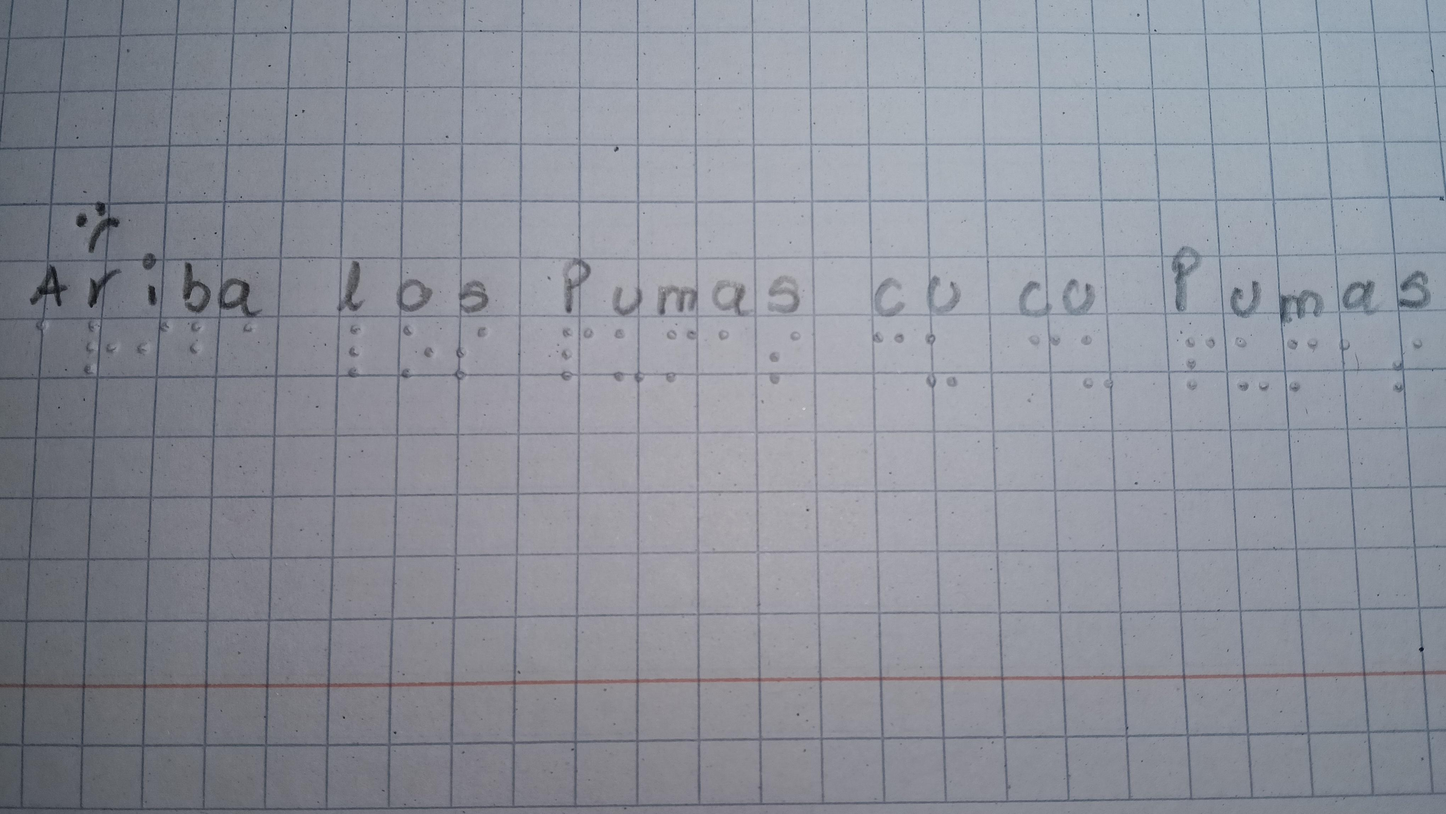a: (186, 319, 229, 363), (1336, 326, 1363, 388), (229, 316, 271, 353), (30, 308, 67, 349), (702, 323, 737, 356)
c: (858, 324, 911, 358), (1022, 323, 1067, 362)
i: (128, 319, 175, 363)
l: (330, 317, 370, 385)
m: (1279, 333, 1326, 397), (659, 319, 702, 381)
o: (395, 324, 438, 383)
p: (1223, 335, 1274, 411), (1177, 324, 1219, 399), (549, 323, 597, 383)
r: (80, 312, 117, 390)
s: (1380, 326, 1427, 402), (445, 321, 494, 390), (758, 328, 812, 390)
u: (606, 324, 654, 388), (920, 326, 964, 395), (1074, 330, 1120, 394)
